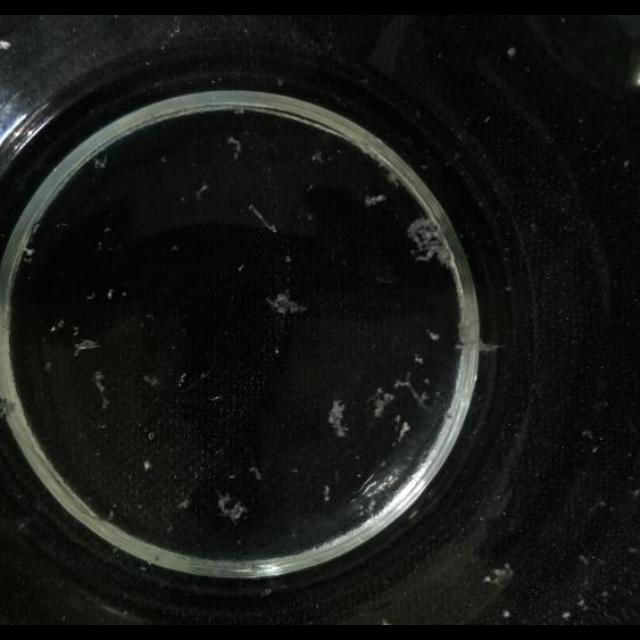Fibre: (406, 218, 450, 266), (264, 290, 308, 318), (218, 492, 248, 522), (328, 398, 348, 438), (370, 389, 394, 421), (90, 370, 110, 408), (483, 564, 513, 588), (74, 339, 100, 357), (225, 137, 242, 161), (194, 182, 210, 200), (142, 374, 160, 388)
microbeads: (364, 194, 386, 208), (426, 330, 440, 342), (506, 46, 516, 58), (0, 40, 10, 50), (144, 460, 152, 470), (502, 610, 512, 618), (562, 612, 570, 620)
